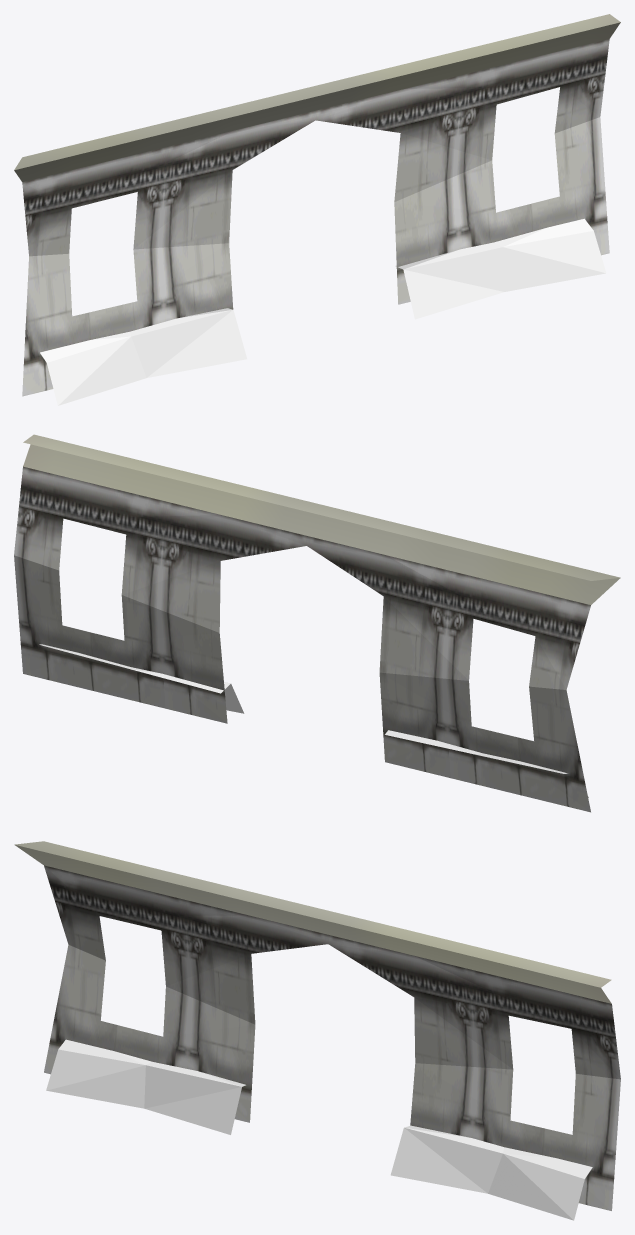
File: W_A2l_fOf_377.glb
3 renders of one model, top to bottom at view 1: azimuth 30°, elevation 25°; view 2: azimuth 150°, elevation 25°; view 3: azimuth 330°, elevation 25°, orthographic. The views are drawn at different scales.
Visible parts, largest first — view 1: polySurfaceShape766, polySurfaceShape1055, polySurfaceShape909, polySurfaceShape922; view 2: polySurfaceShape766, polySurfaceShape1055, polySurfaceShape909, polySurfaceShape922; view 3: polySurfaceShape766, polySurfaceShape1055, polySurfaceShape909, polySurfaceShape922.
Boxes of the visible parts, <box> form: polySurfaceShape766: <box>22,39,609,396</box>; polySurfaceShape1055: <box>14,14,620,181</box>; polySurfaceShape909: <box>395,218,606,319</box>; polySurfaceShape922: <box>40,308,246,405</box>; polySurfaceShape766: <box>14,466,590,812</box>; polySurfaceShape1055: <box>23,434,620,604</box>; polySurfaceShape909: <box>39,644,244,713</box>; polySurfaceShape922: <box>385,730,588,797</box>; polySurfaceShape766: <box>44,865,620,1210</box>; polySurfaceShape1055: <box>14,841,611,1003</box>; polySurfaceShape909: <box>390,1125,592,1220</box>; polySurfaceShape922: <box>46,1039,245,1134</box>.
Bounding box in the file's own units: 1.03 × 0.3926 × 0.0805.
Materials: 4 (2 with a texture image).
